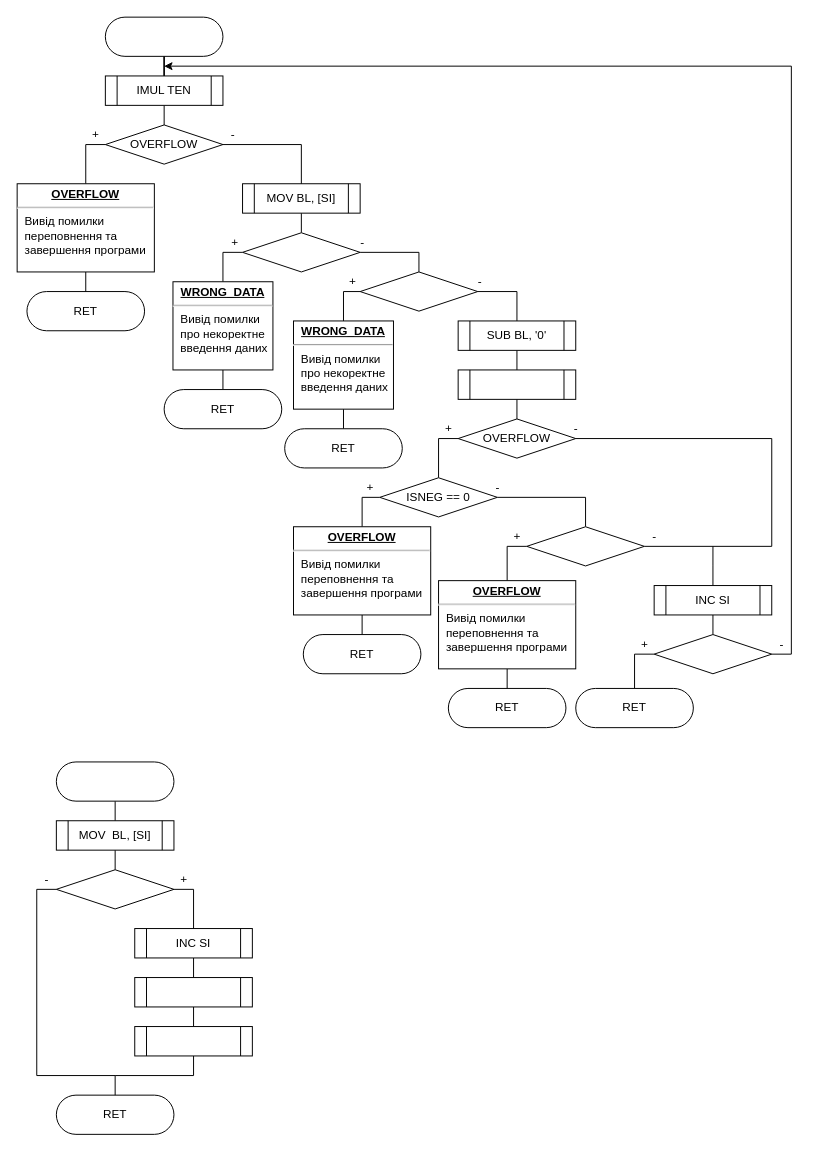
Image size: 816x1152. Some labels were removed from this diagram. Here are the shapes that lost their labels. From the top down, the box of each, then its label:
(104, 16, 223, 56): CHECK_SYMBOLS
(242, 232, 360, 272): BL < '0'
(359, 271, 478, 311): BL > '9'
(457, 369, 576, 399): ADD AX, BX
(526, 526, 644, 566): AX == 32768
(653, 634, 772, 674): CX == 0
(55, 761, 174, 801): CHECK_SIGN
(55, 869, 174, 909): BL == '-'
(134, 977, 252, 1007): MOV ISNEG, 1
(134, 1026, 252, 1056): DEC CX
